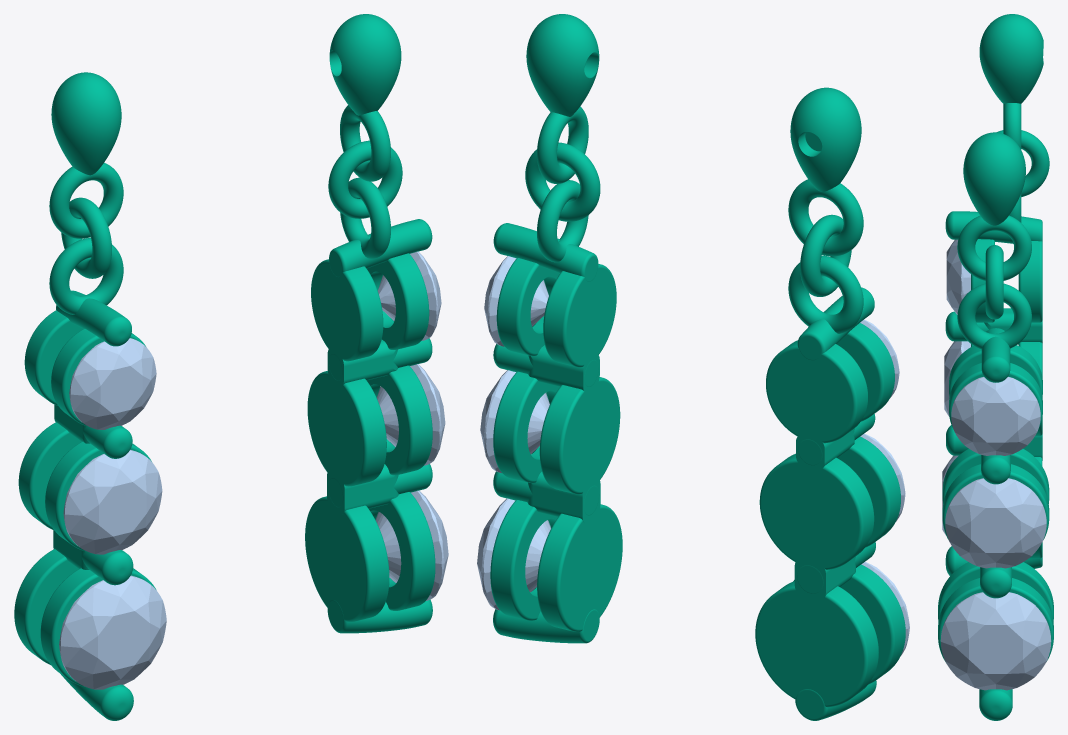
3 renders of one model, left to right at view 1: azimuth 30°, elevation 25°; view 2: azimuth 150°, elevation 25°; view 3: azimuth 270°, elevation 25°, orthographic. The views are drawn at different scales.
Visible parts, largest first — view 1: VBP153(VEAR).3dm, Diamond_Round (×6), Bezel (×6), Head Prong (×8); view 2: VBP153(VEAR).3dm, Bezel (×6), Head Prong (×8), Diamond_Round (×3); view 3: VBP153(VEAR).3dm, Diamond_Round (×5), Head Prong (×8), Bezel (×4).
Part boxes in pixels (<box>): VBP153(VEAR).3dm: <box>14,14,402,664</box>; Diamond_Round (×6): <box>59,251,448,689</box>; Bezel (×6): <box>40,253,435,686</box>; Head Prong (×8): <box>56,219,432,720</box>; VBP153(VEAR).3dm: <box>525,14,878,707</box>; Bezel (×6): <box>490,258,905,684</box>; Head Prong (×8): <box>493,223,876,720</box>; Diamond_Round (×3): <box>477,256,550,610</box>; VBP153(VEAR).3dm: <box>938,14,1053,621</box>; Diamond_Round (×5): <box>940,239,1051,690</box>; Head Prong (×8): <box>945,211,1042,720</box>; Bezel (×4): <box>938,239,1053,661</box>.
Bounding box in the file's own units: 2.18 × 3.3 × 0.6169.
